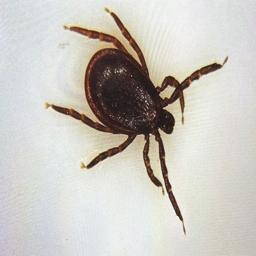Ixodes scapularis: (46, 7, 230, 236)
